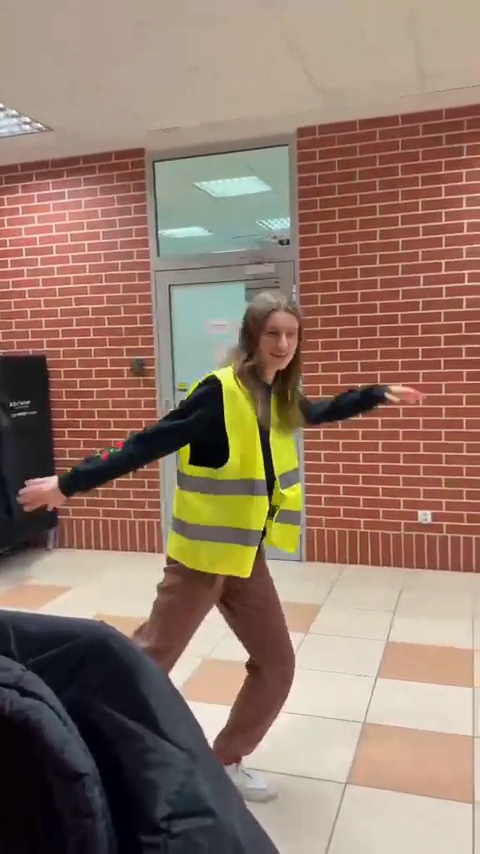vest: (129, 280, 314, 792)
